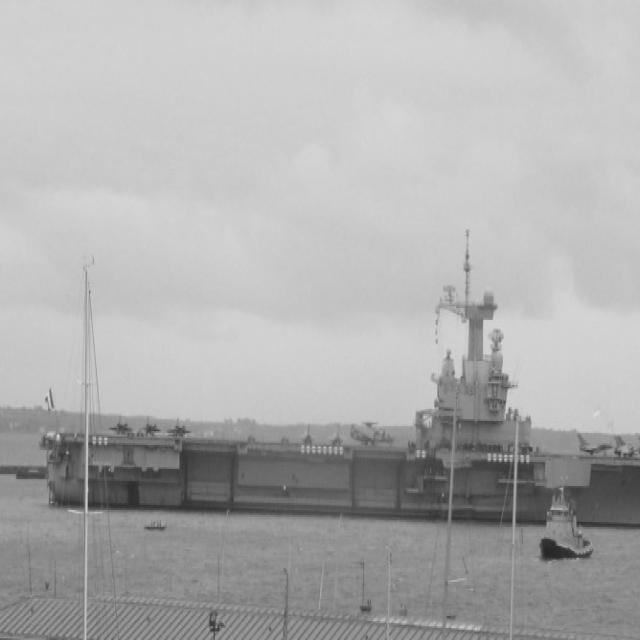Portanaves: (35, 225, 640, 533)
